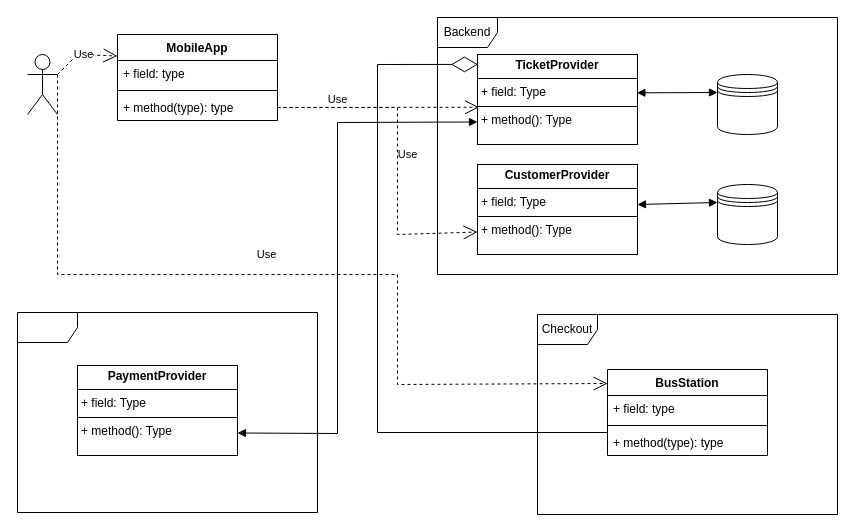
Image size: 855x532. Some labels were removed from this diagram. The shapes that lost their labels are listed below. From the top down, each one's centre as x and y in pixels, then its label:
the point at 42,84: Actor
the point at 167,412: Payment API
